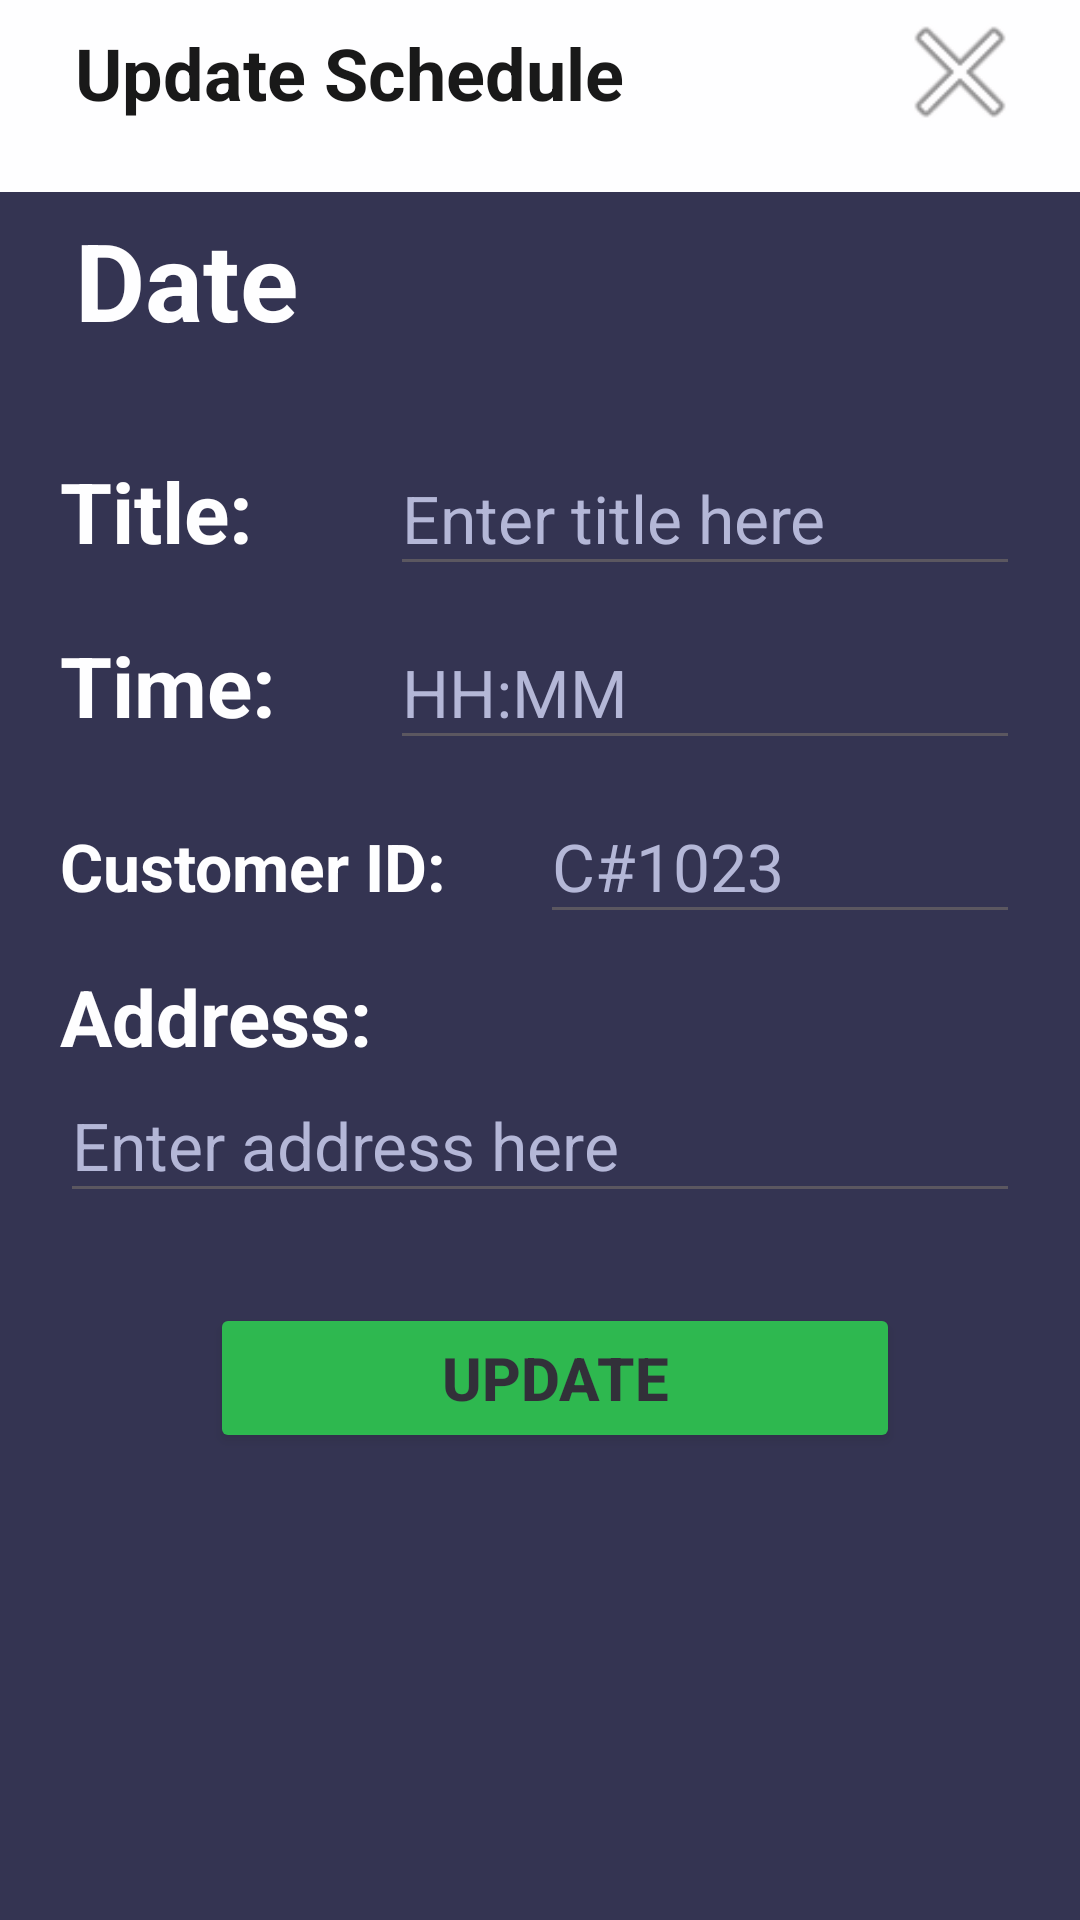

Icon click points for this 1080*1920 phone screenshot, format (x=x, y=y):
close clear cancel: (x=960, y=72)
